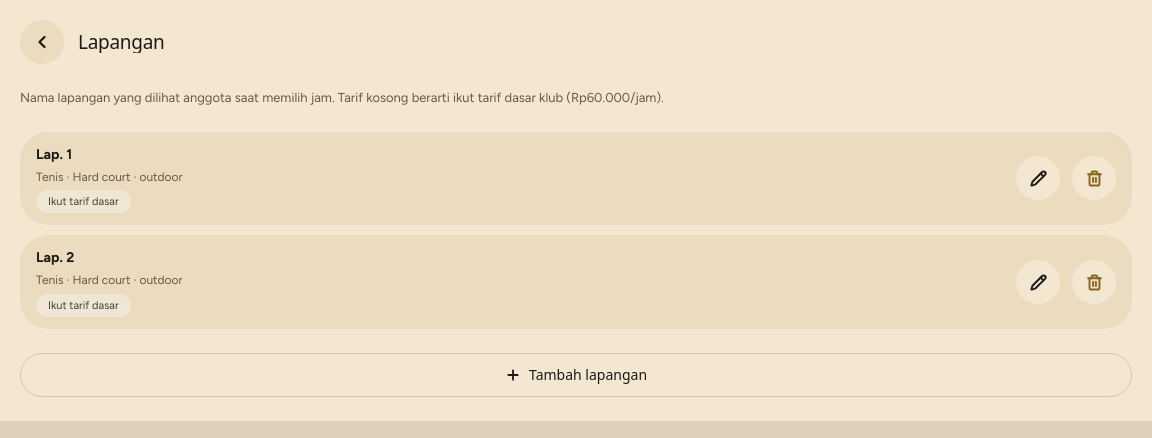
Test: AdminCourtsScreen › menghapus lapangan yang tidak punya booking mendatang
The width and height of the screenshot is (1152, 438).
Check: the text "Lap. 2" is shown, box [36,249,74,266]
Step 1. Click the button named "Hapus Lap. 2" → (1094, 282), box [1072,260,1116,304]
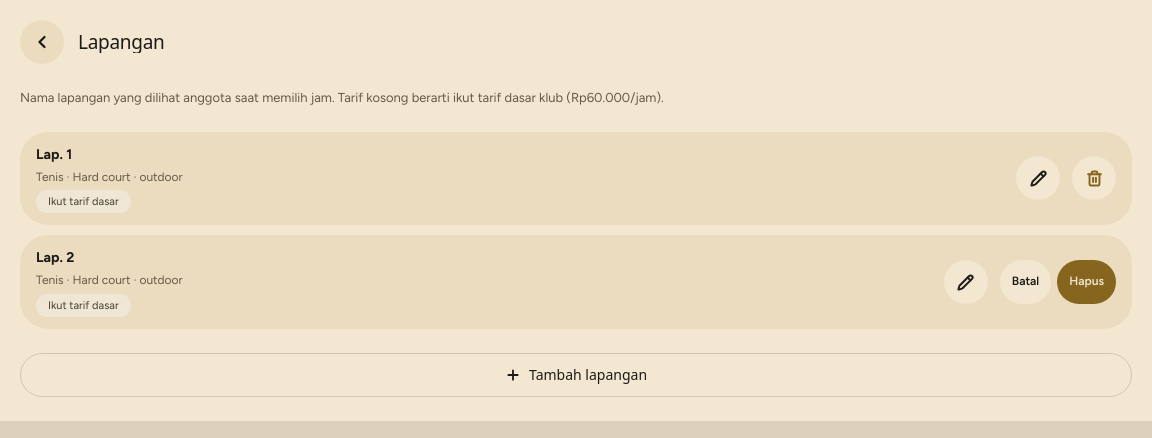
Step 2. Click the button "Hapus" → (1087, 282), box [1057,260,1116,304]
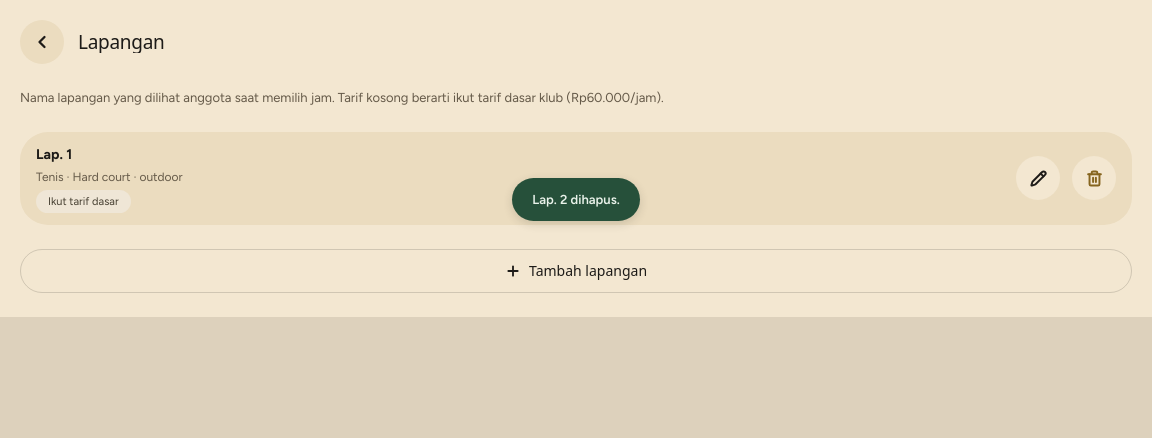
Check: the text "Lap. 2 dihapus." is shown, box [512,178,640,221]
